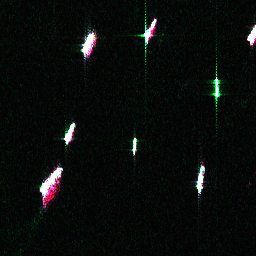ship: (35, 164, 66, 197), (77, 30, 99, 56), (140, 15, 161, 42), (61, 119, 78, 146), (194, 164, 206, 193), (246, 23, 255, 44), (130, 136, 138, 156), (213, 77, 220, 98)
